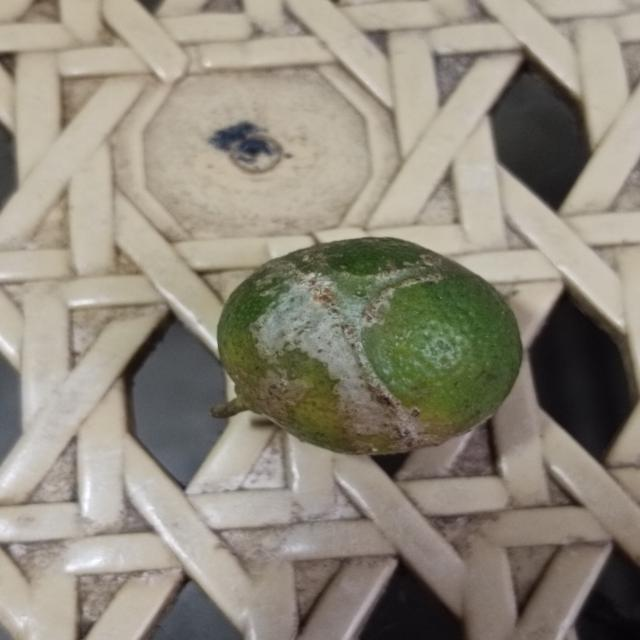thrips: (212, 233, 526, 462)
